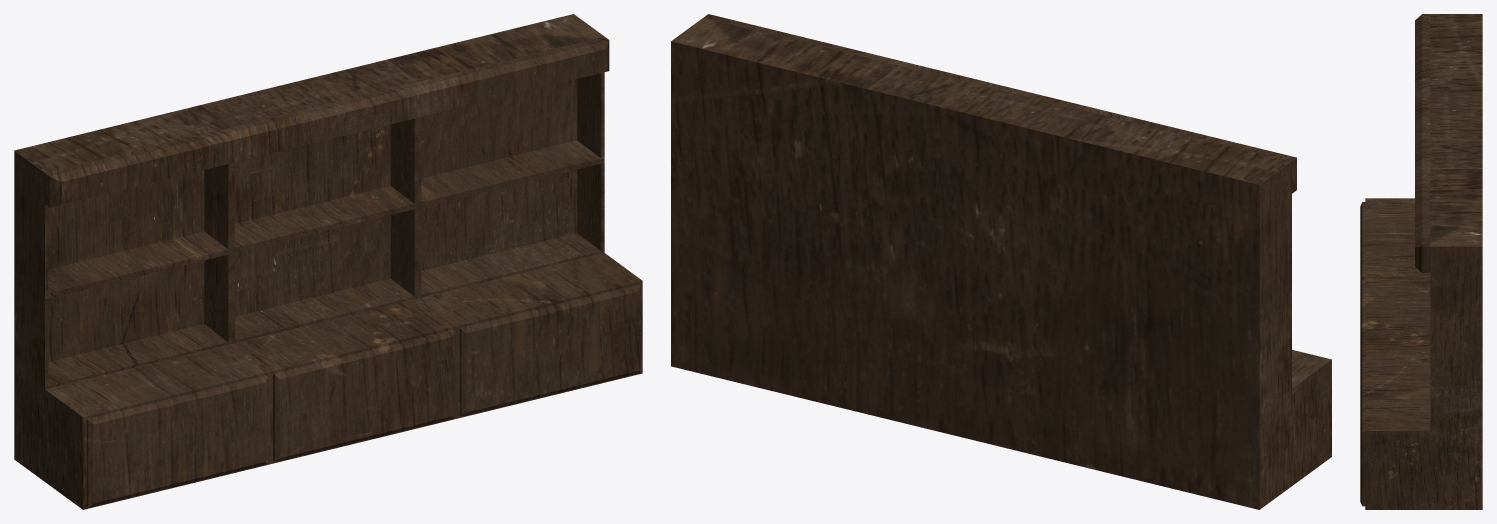
Rendered from Big-shelf-New_texture.fbx.
3 views of the same model, side by side, from view 1: azimuth 30°, elevation 25°; view 2: azimuth 150°, elevation 25°; view 3: azimuth 270°, elevation 25° (orthographic). The views are drawn at different scales.
Parts seen in each view (by area): view 1: Cube; view 2: Cube; view 3: Cube.
Part boxes in pixels (box(x1,y1,x2,y2)): Cube: box(14, 14, 642, 509); Cube: box(671, 14, 1331, 509); Cube: box(1360, 14, 1482, 509).
Size of the model in its own units: 2528 by 1334 by 563.
1 material, 1 textured.
